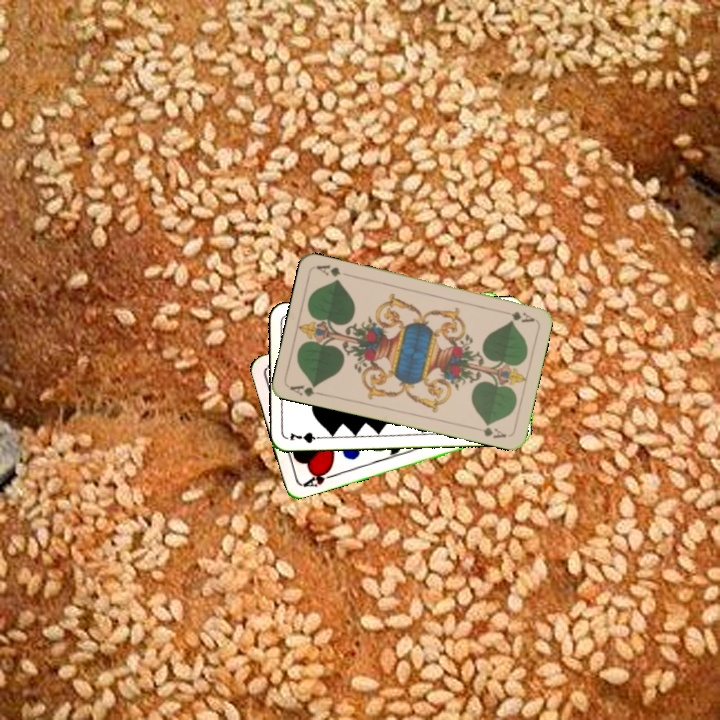G7: (286, 428, 326, 445)
GA: (286, 380, 326, 399), (497, 306, 537, 325)
HA: (298, 465, 338, 490)
